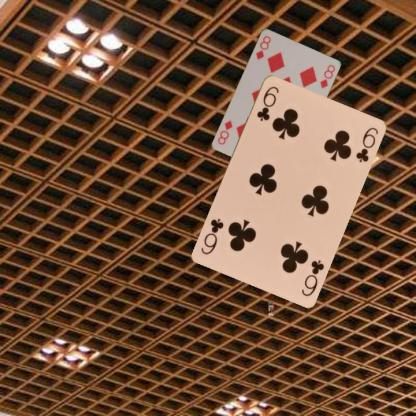6c: (299, 256, 325, 298), (254, 83, 280, 123)
8d: (253, 33, 272, 61)
